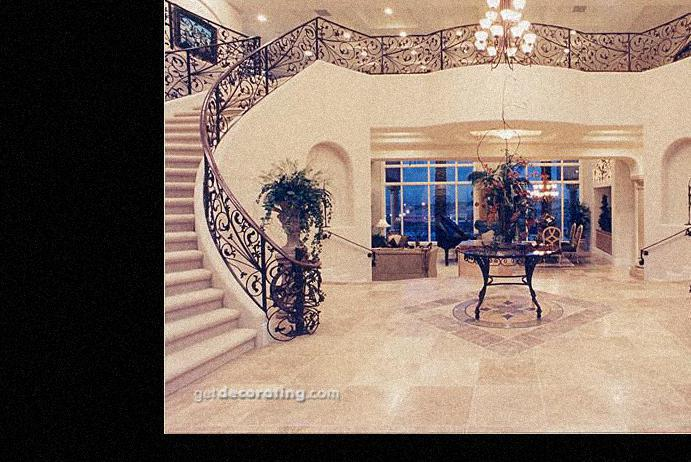Escaleras: (166, 17, 316, 386), (258, 169, 331, 262)
